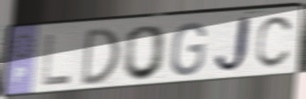C: (254, 14, 296, 71)
D: (79, 25, 123, 89)
G: (168, 21, 209, 78)
J: (212, 13, 254, 77)
L: (40, 33, 73, 89)
O: (120, 23, 170, 82)
